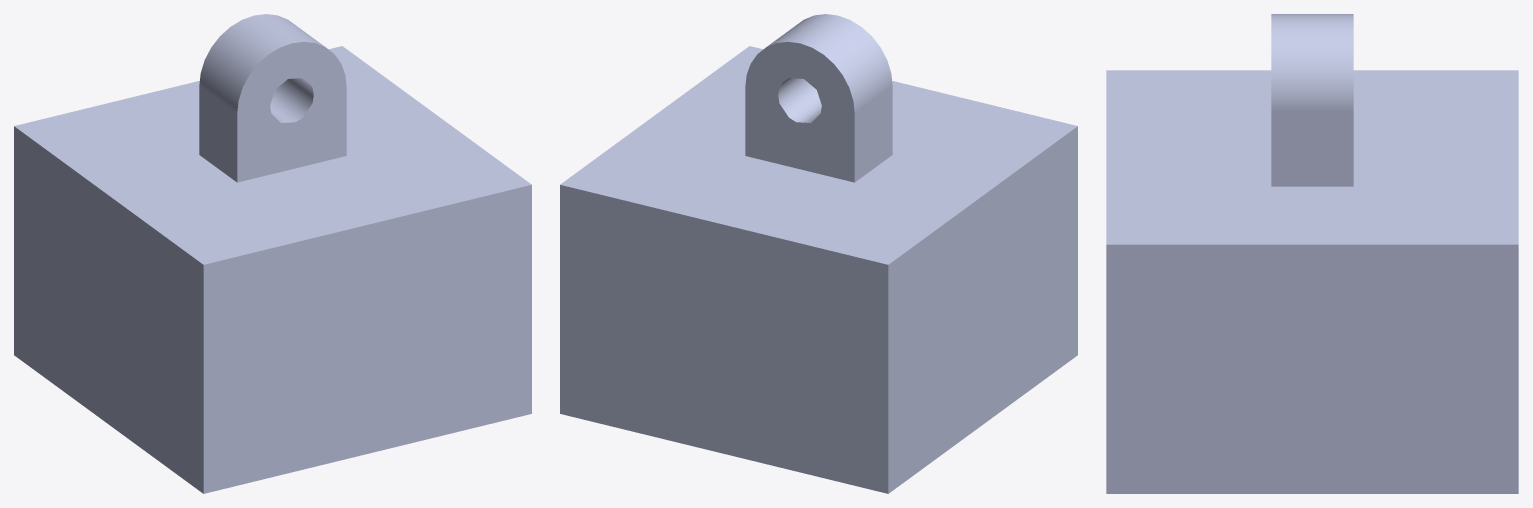
File: rod_bas2.obj
3 views of the same model, side by side, from view 1: azimuth 30°, elevation 25°; view 2: azimuth 150°, elevation 25°; view 3: azimuth 270°, elevation 25° (orthographic). The views are drawn at different scales.
Visible parts, largest first — view 1: mesh 1 rod_bas2; view 2: mesh 1 rod_bas2; view 3: mesh 1 rod_bas2.
Boxes of the visible parts, <box> form: mesh 1 rod_bas2: <box>14,14,531,493</box>; mesh 1 rod_bas2: <box>560,14,1077,493</box>; mesh 1 rod_bas2: <box>1106,14,1518,493</box>.
Size of the model in its own units: 0.015 by 0.0155 by 0.015.
